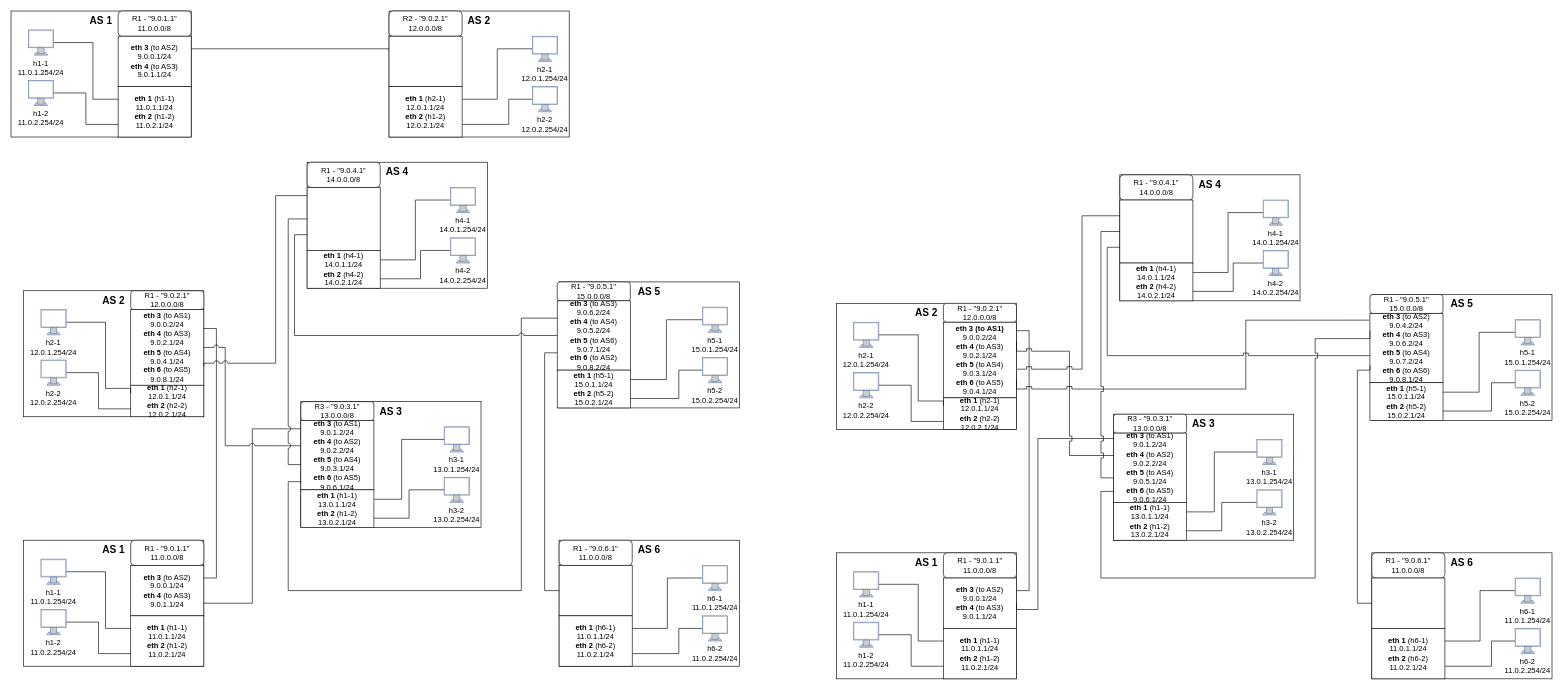
Some shapes in this 1563 by 690 pixel diagram are drawn without their labels. Each missing label, with the centre of its shape:
eth 3 (to AS1) 9.0.0.2/24 eth 4 (to AS3) 9.0.2.1/24: (425,61)
eth 3 (to AS2) 9.0.3.2/24 eth 4 (to AS3) 9.0.5.2/24 eth 5 (to AS 5) 9.0.7.1/24: (1156,231)
eth 3 (to AS2) 9.0.4.2/24 eth 4 (to AS3) 9.0.1.2/24 eth 5 (to AS 5) 9.0.5.1/24: (343,218)
eth 3 (to AS5) 9.0.7.2/24: (595,590)
eth 3 (to AS5) 9.0.8.2/24: (1408,602)
